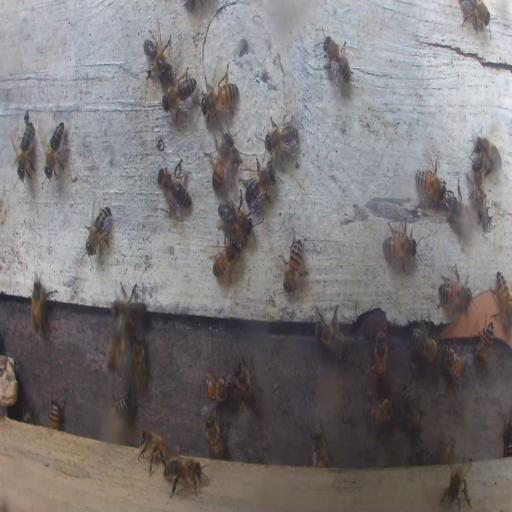bee: (157, 158, 192, 216), (232, 352, 262, 419), (242, 156, 276, 214), (381, 216, 420, 266), (321, 32, 353, 89), (163, 454, 204, 498), (440, 459, 473, 511), (142, 25, 172, 82), (444, 188, 476, 241), (313, 306, 348, 353), (161, 72, 195, 120), (84, 203, 114, 257), (136, 426, 168, 476), (264, 116, 299, 161), (43, 120, 68, 180), (209, 130, 234, 190), (202, 78, 238, 119), (218, 198, 252, 240), (113, 284, 144, 330), (12, 114, 34, 178), (438, 269, 472, 310), (283, 231, 304, 296), (415, 160, 446, 204), (468, 158, 488, 222), (106, 315, 127, 373), (212, 236, 240, 279), (495, 270, 512, 338), (410, 325, 439, 362), (131, 334, 150, 389), (458, 2, 492, 32), (204, 413, 226, 459), (473, 134, 498, 174), (402, 382, 422, 431), (30, 276, 46, 334), (364, 396, 393, 427), (373, 329, 388, 385), (203, 371, 230, 402), (476, 318, 494, 363), (311, 426, 330, 468), (442, 347, 466, 379), (110, 388, 132, 416), (48, 397, 62, 431), (440, 437, 456, 464), (412, 441, 431, 463)
